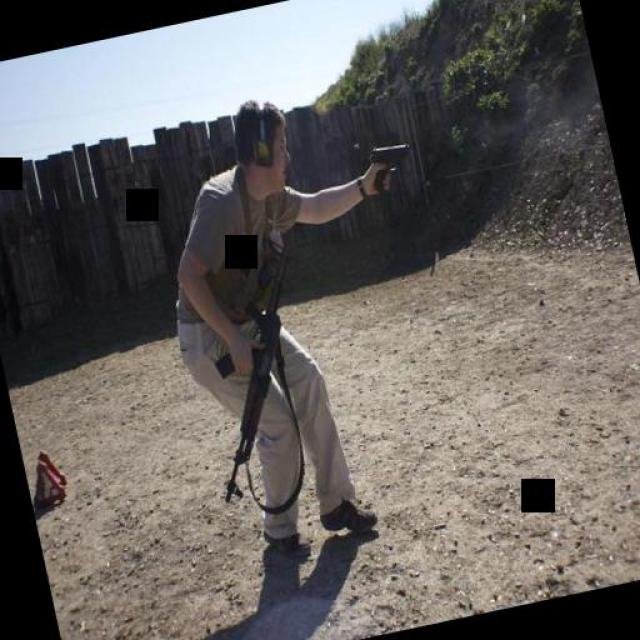gun: (359, 132, 420, 196)
